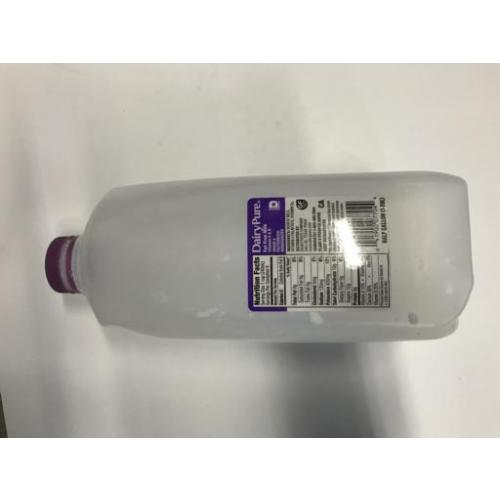plastic: (57, 174, 471, 354)
